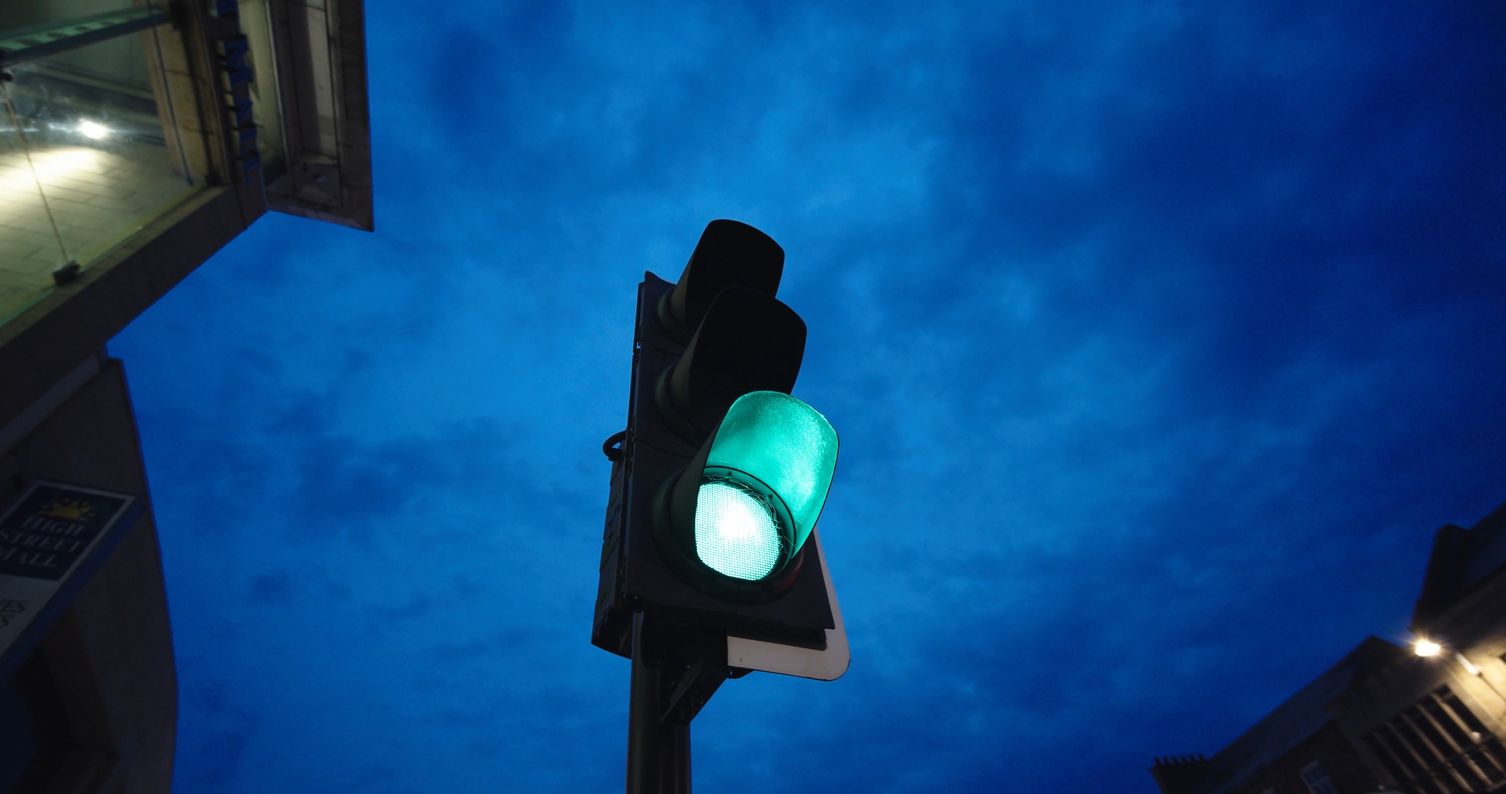green traffic light: (600, 160, 861, 721)
